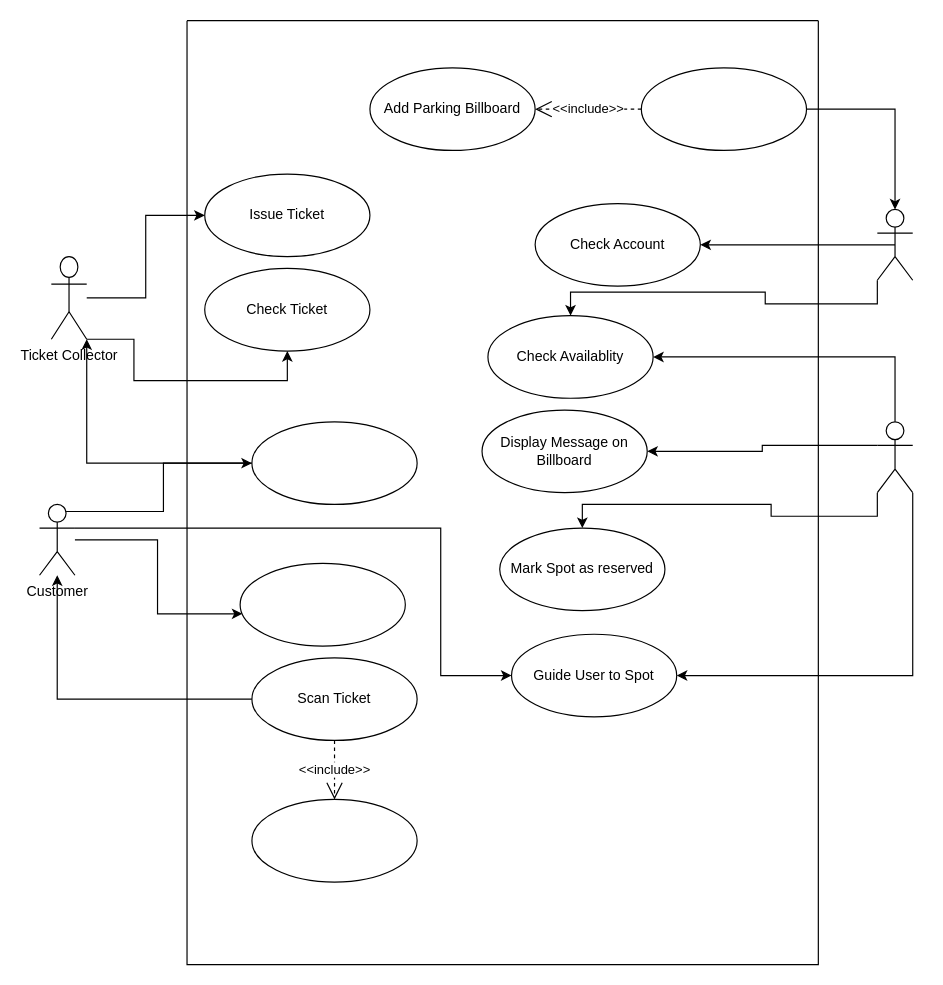
This 943x985 diagram has some shape labels left out. Here are the shapes that lost their labels. From the top down, the centre of each, then its label:
point 723,108: Add Parking Spot/Floor
point 894,244: Admin
point 334,462: Cash Payment
point 894,457: System
point 322,604: Take Ticket
point 334,840: Pay with credit/upi
